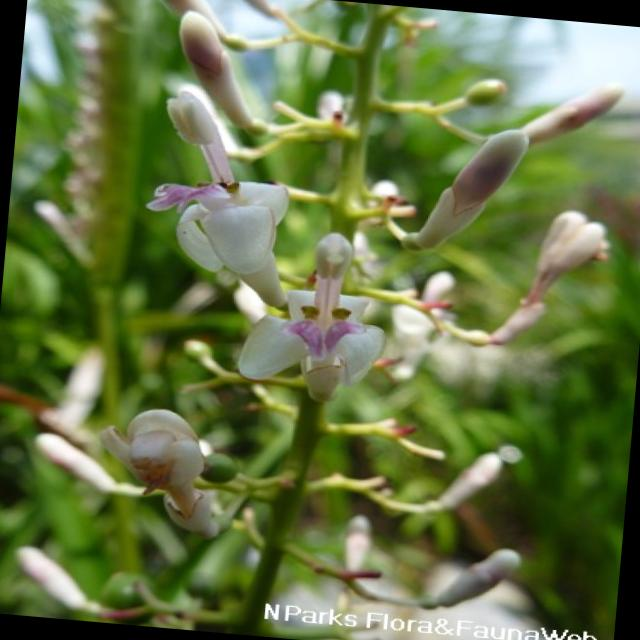Aquatic-Ginger: (83, 0, 629, 625)
